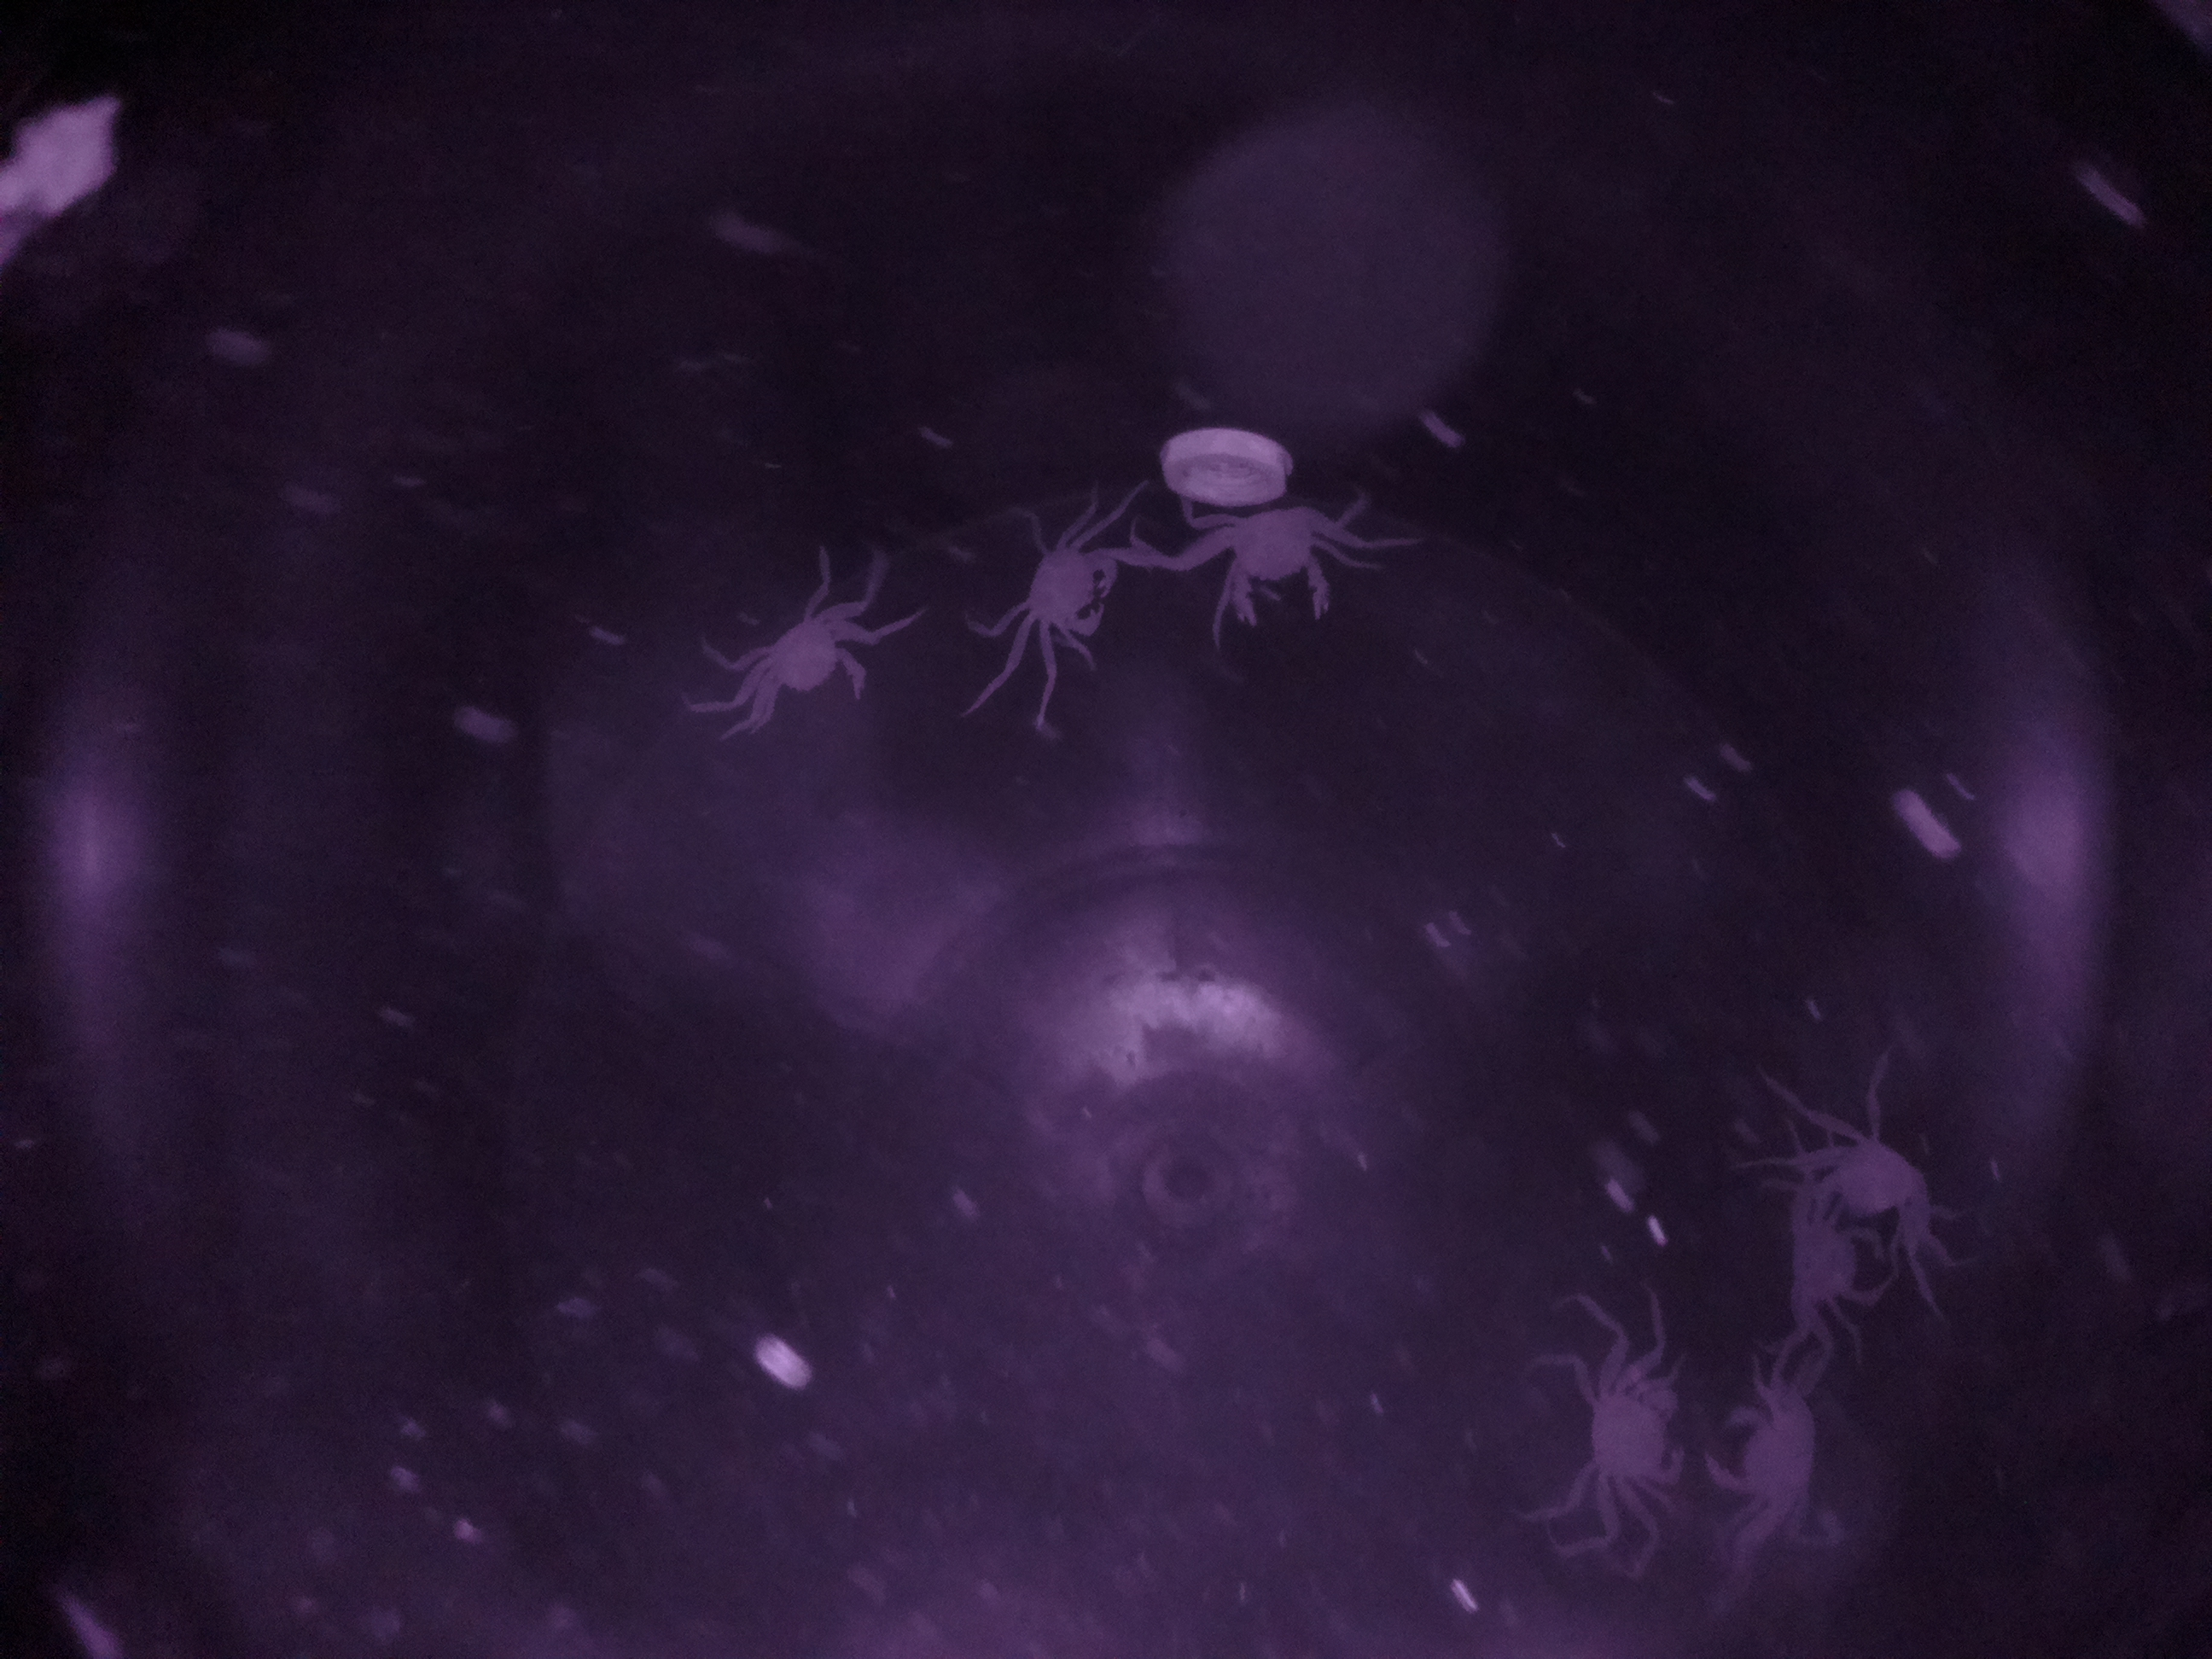Crab: (1559, 1312, 1695, 1542), (1169, 465, 1353, 633), (718, 584, 883, 730), (1710, 1338, 1813, 1556), (995, 505, 1136, 662)
